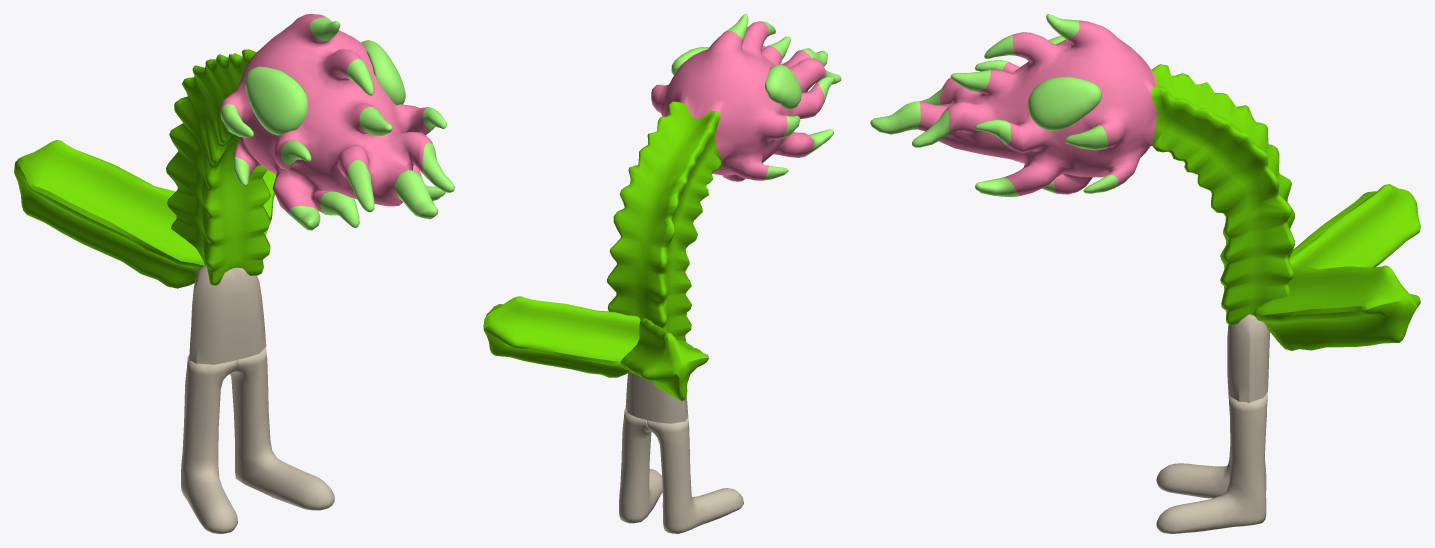
3 views of the same model, side by side, from view 1: azimuth 30°, elevation 25°; view 2: azimuth 150°, elevation 25°; view 3: azimuth 270°, elevation 25° (orthographic). The views are drawn at different scales.
Parts seen in each view (by area): view 1: dragonfruitupperbod, Retopo_tails, legs1, legs2, torso, eyelids_008; view 2: dragonfruitupperbod, Retopo_tails, legs2, legs1, torso, eyelids_008; view 3: dragonfruitupperbod, Retopo_tails, legs1, torso, eyelids_008, legs2.
Boxes of the visible parts, x1,y1,x2,y2 form: dragonfruitupperbod: (166, 14, 454, 285); Retopo_tails: (14, 140, 275, 288); legs1: (230, 347, 334, 510); legs2: (181, 354, 237, 533); torso: (189, 266, 266, 364); eyelids_008: (245, 40, 405, 135); dragonfruitupperbod: (607, 14, 841, 341); Retopo_tails: (483, 296, 708, 401); legs2: (647, 418, 743, 533); legs1: (619, 408, 662, 523); torso: (625, 372, 688, 423); eyelids_008: (671, 47, 801, 109); dragonfruitupperbod: (870, 14, 1294, 325); Retopo_tails: (1253, 184, 1420, 350); legs1: (1156, 387, 1268, 533); torso: (1227, 314, 1269, 402); eyelids_008: (1028, 35, 1101, 130); legs2: (1156, 445, 1266, 498).
Bounding box in the file's own units: 395 × 788 × 794.
